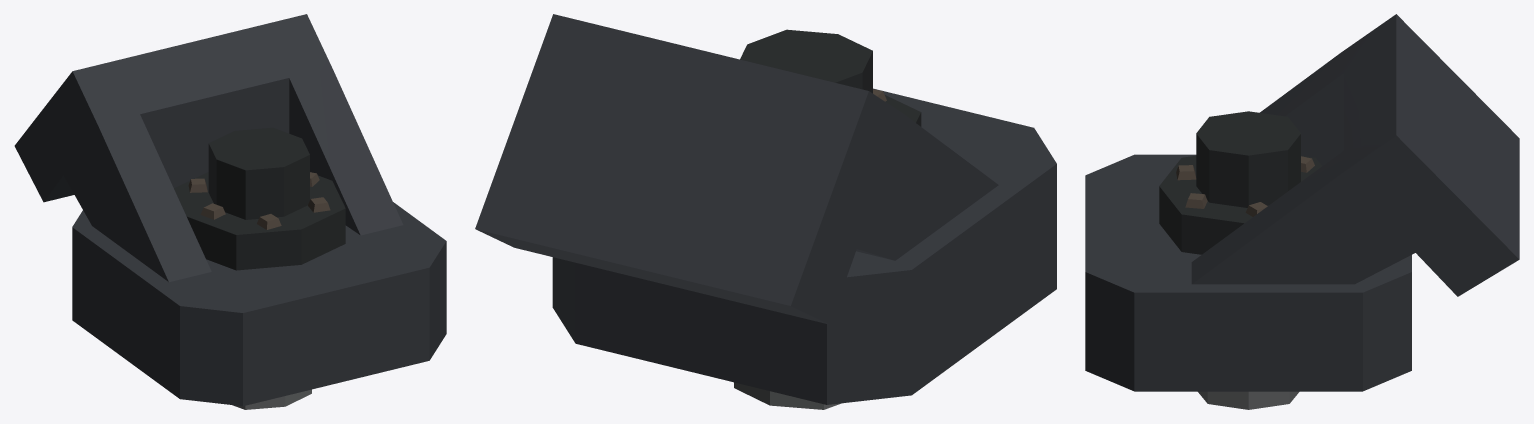
File: SM_Veh_Excavator_02_Auger_01_Head.obj
3 views of the same model, side by side, from view 1: azimuth 30°, elevation 25°; view 2: azimuth 150°, elevation 25°; view 3: azimuth 270°, elevation 25° (orthographic). The views are drawn at different scales.
Parts seen in each view (by area): view 1: SM_Veh_Excavator_02_Auger_01_Head_0; view 2: SM_Veh_Excavator_02_Auger_01_Head_0; view 3: SM_Veh_Excavator_02_Auger_01_Head_0.
Boxes of the visible parts, x1,y1,x2,y2 form: SM_Veh_Excavator_02_Auger_01_Head_0: [14, 14, 446, 409]; SM_Veh_Excavator_02_Auger_01_Head_0: [475, 14, 1056, 409]; SM_Veh_Excavator_02_Auger_01_Head_0: [1085, 14, 1519, 409].
Bounding box in the file's own units: 0.2541 × 0.2679 × 0.3379.
1 material, 1 textured.
